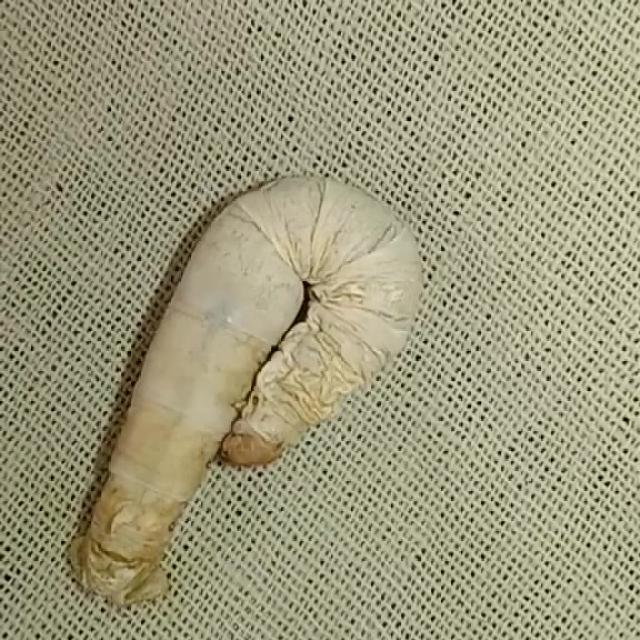Grasserie: (58, 157, 480, 615)
